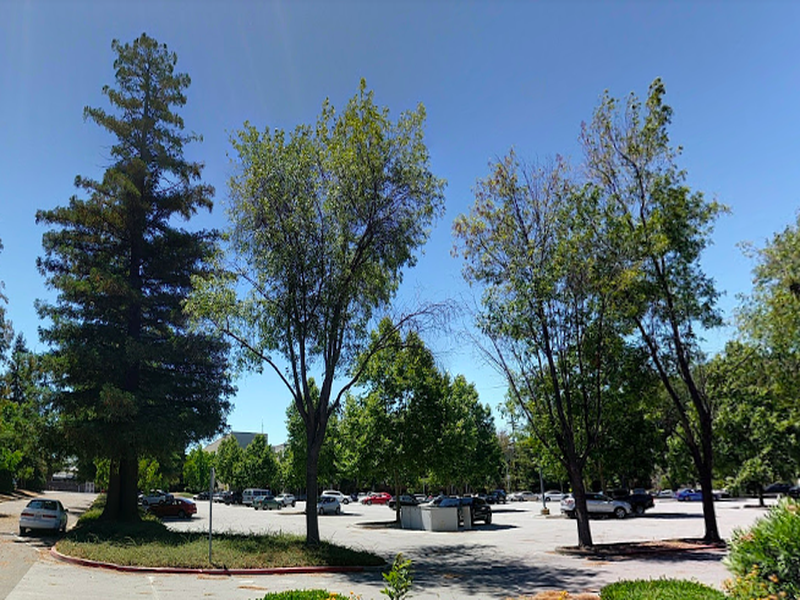tree: (179, 76, 447, 550), (35, 31, 238, 532), (571, 76, 736, 545), (447, 145, 616, 555)
